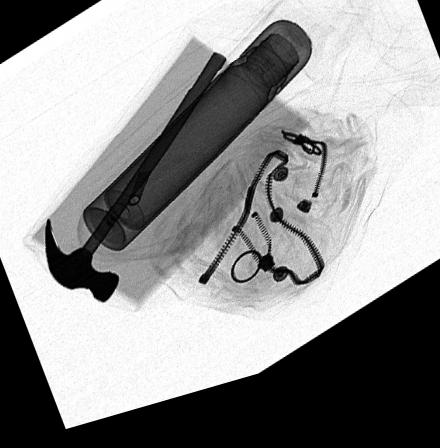Hammer: (42, 64, 225, 309)
